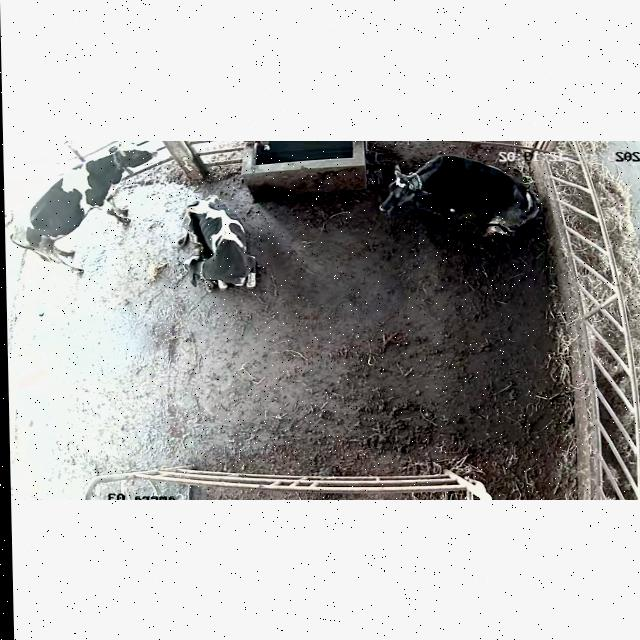stand: (6, 140, 157, 271)
